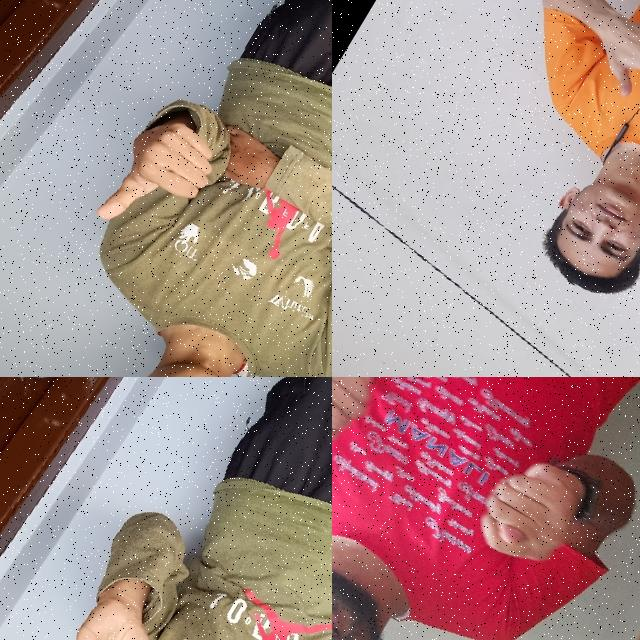Dulya: (458, 428, 604, 584), (332, 377, 398, 469)
Five Fathers: (565, 0, 640, 196)
Okay: (27, 569, 195, 640)
Thumbs Up: (77, 76, 246, 264)
